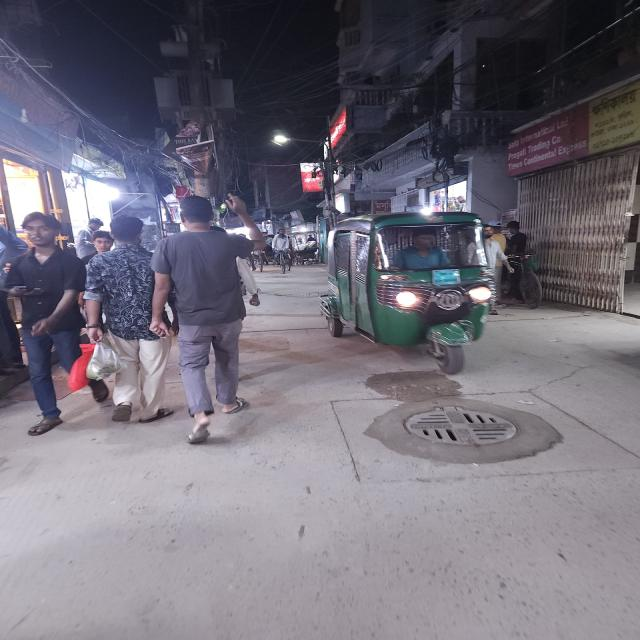cng: (323, 211, 501, 374)
pedestrian: (149, 198, 258, 448), (68, 211, 191, 427), (3, 204, 107, 428)
rickshaw: (253, 226, 301, 277)
